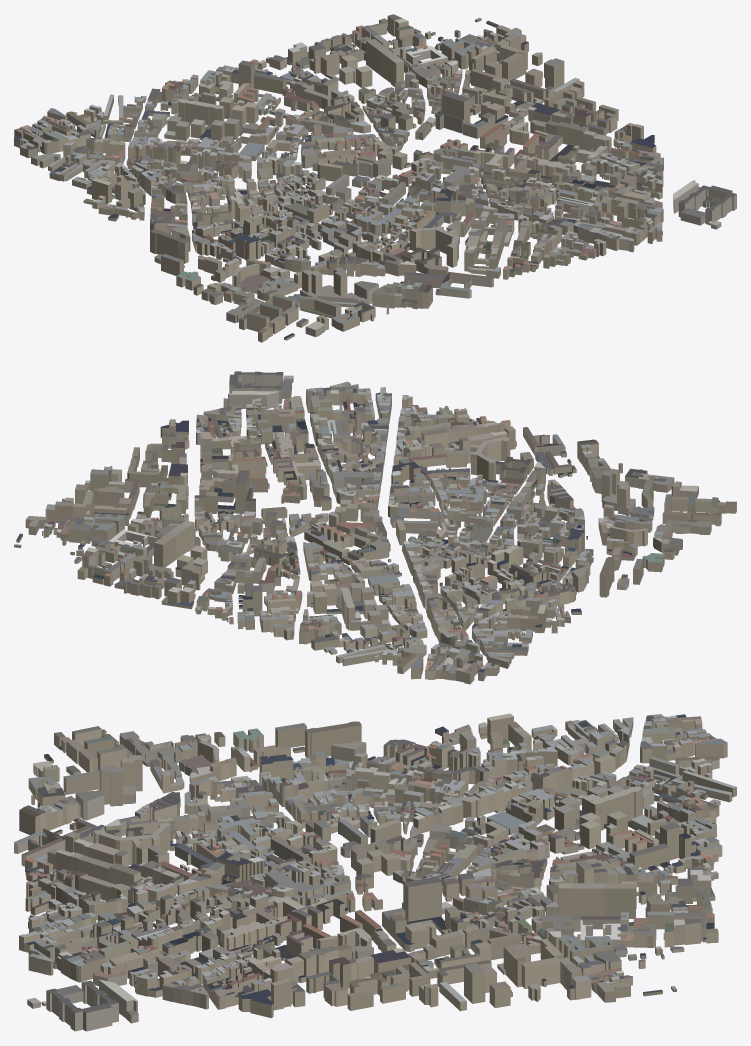
3 renders of one model, top to bottom at view 1: azimuth 30°, elevation 25°; view 2: azimuth 150°, elevation 25°; view 3: azimuth 270°, elevation 25°, orthographic. The views are drawn at different scales.
Parts seen in each view (by area): view 1: tuile; view 2: tuile; view 3: tuile.
Part boxes in pixels (bbox=[...]): tuile: bbox=[14, 14, 736, 342]; tuile: bbox=[14, 371, 736, 684]; tuile: bbox=[14, 713, 736, 1031].
Bounding box in the file's own units: 1049 × 117 × 1055.
